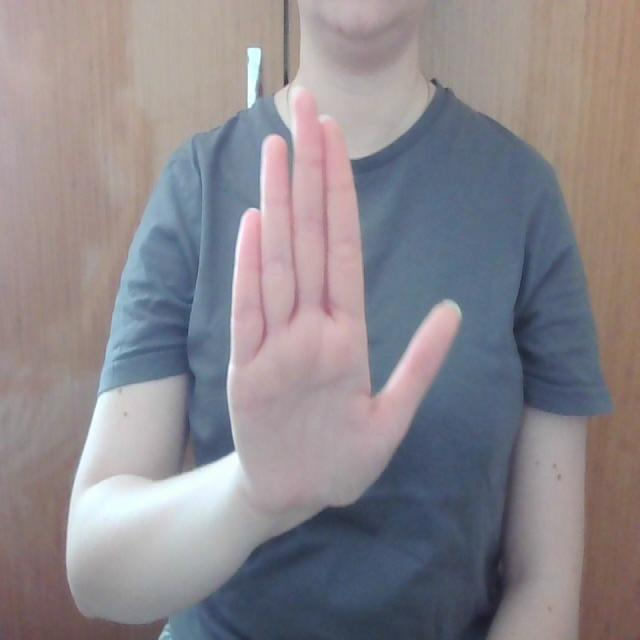Dur: (187, 87, 472, 510)
